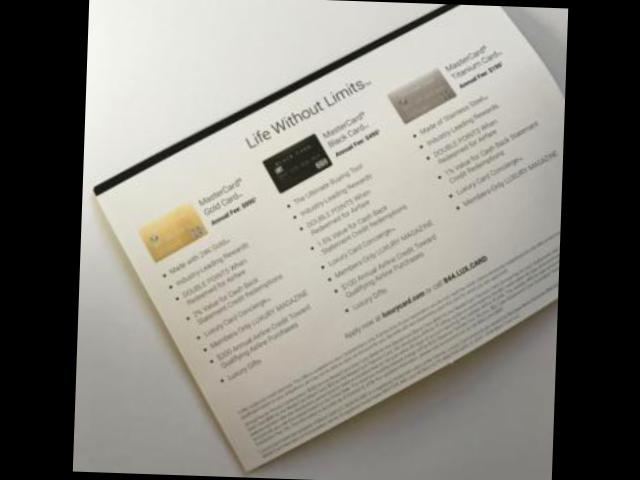cardboard paper: (98, 4, 565, 468)
